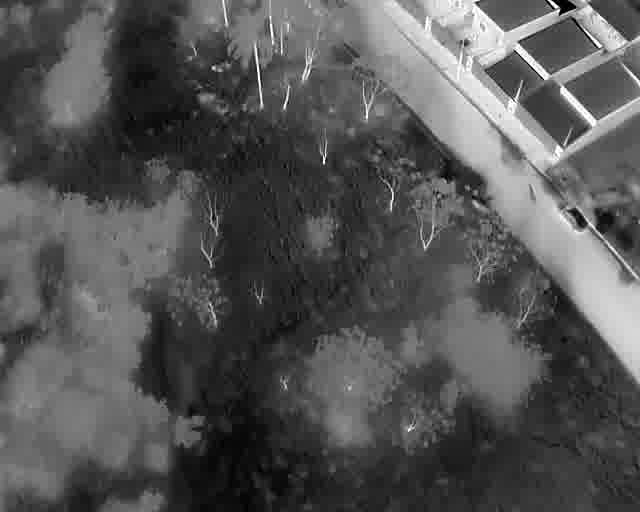car: (557, 200, 588, 232), (455, 37, 473, 47)
